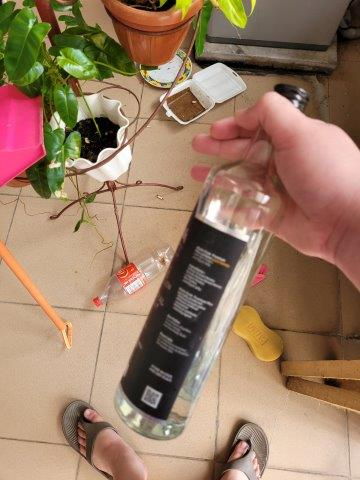botolkaca: (111, 85, 311, 442)
botolplastik: (96, 246, 178, 307)
